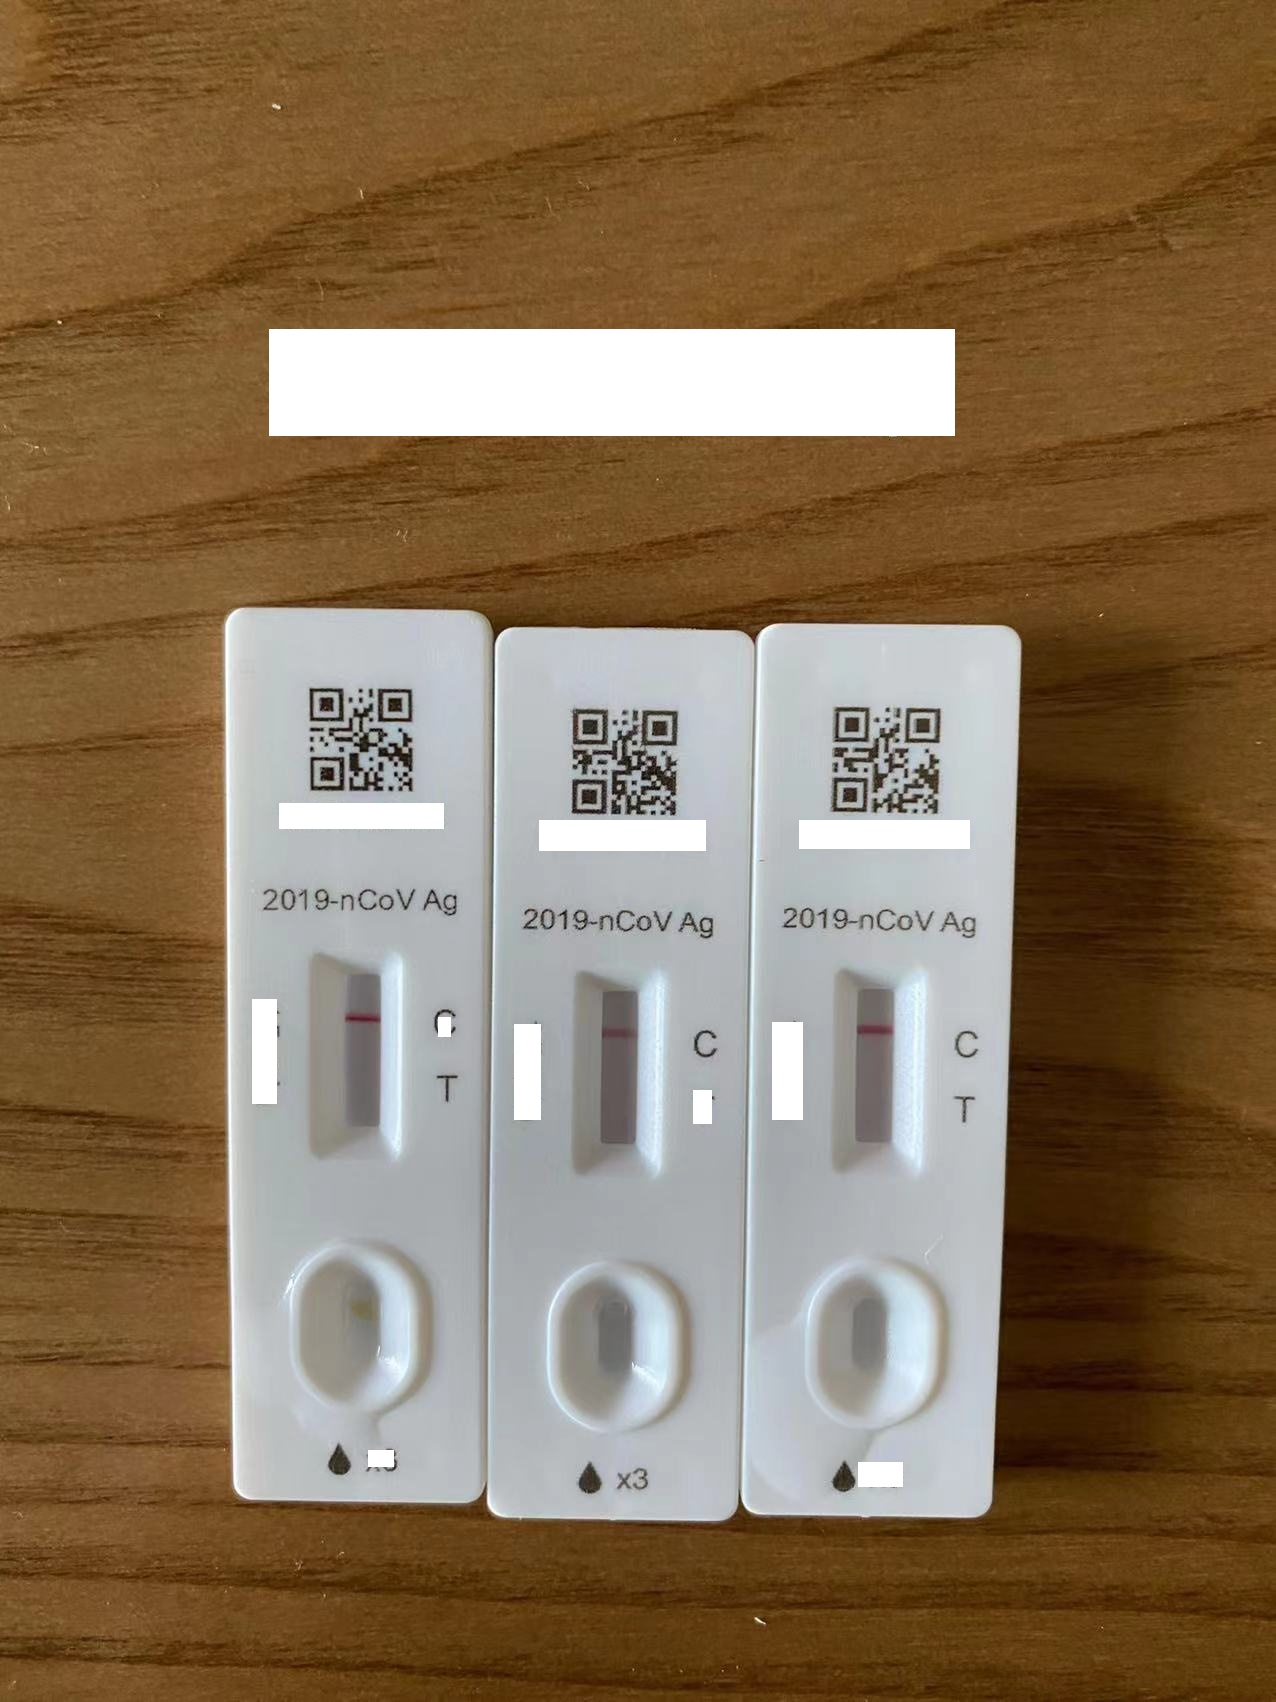negative: (308, 947, 403, 1165), (831, 964, 923, 1177), (574, 966, 663, 1179)
